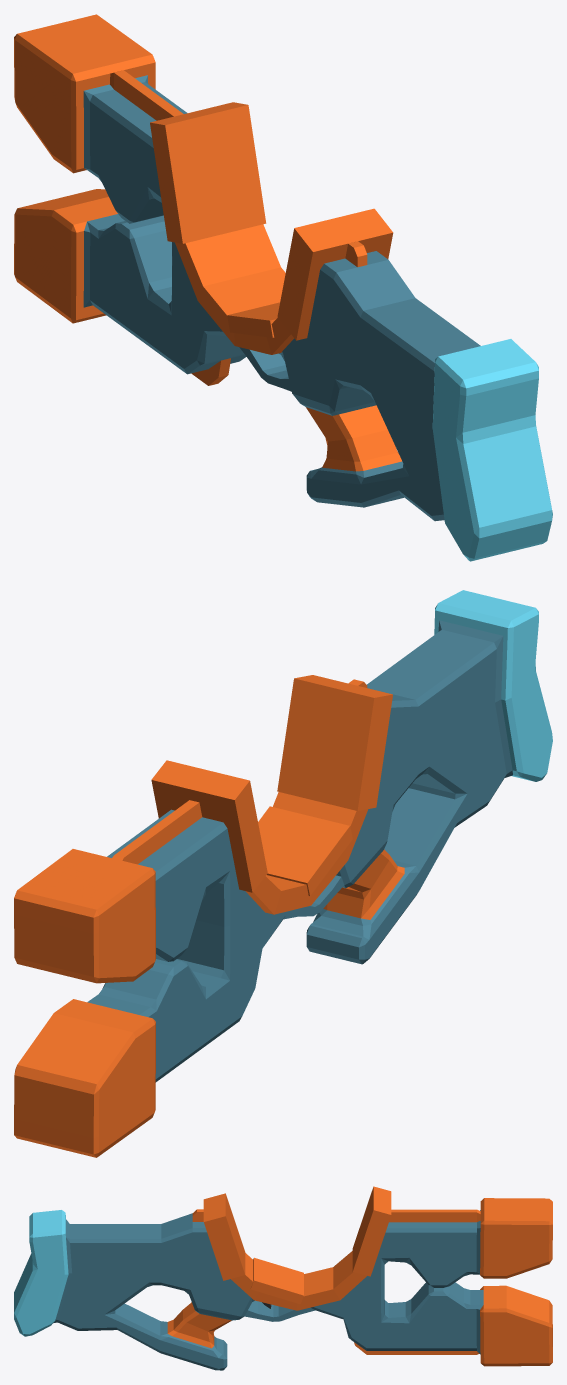
Rendered from LightningGun.fbx.
3 renders of one model, top to bottom at view 1: azimuth 30°, elevation 25°; view 2: azimuth 150°, elevation 25°; view 3: azimuth 270°, elevation 25°, orthographic. The views are drawn at different scales.
Visible parts, largest first — view 1: Cube; view 2: Cube; view 3: Cube.
Part boxes in pixels (bbox=[...]): Cube: bbox=[14, 14, 552, 561]; Cube: bbox=[14, 590, 552, 1157]; Cube: bbox=[14, 1186, 552, 1370].
Bounding box in the file's own units: 50.64 × 162 × 480.
